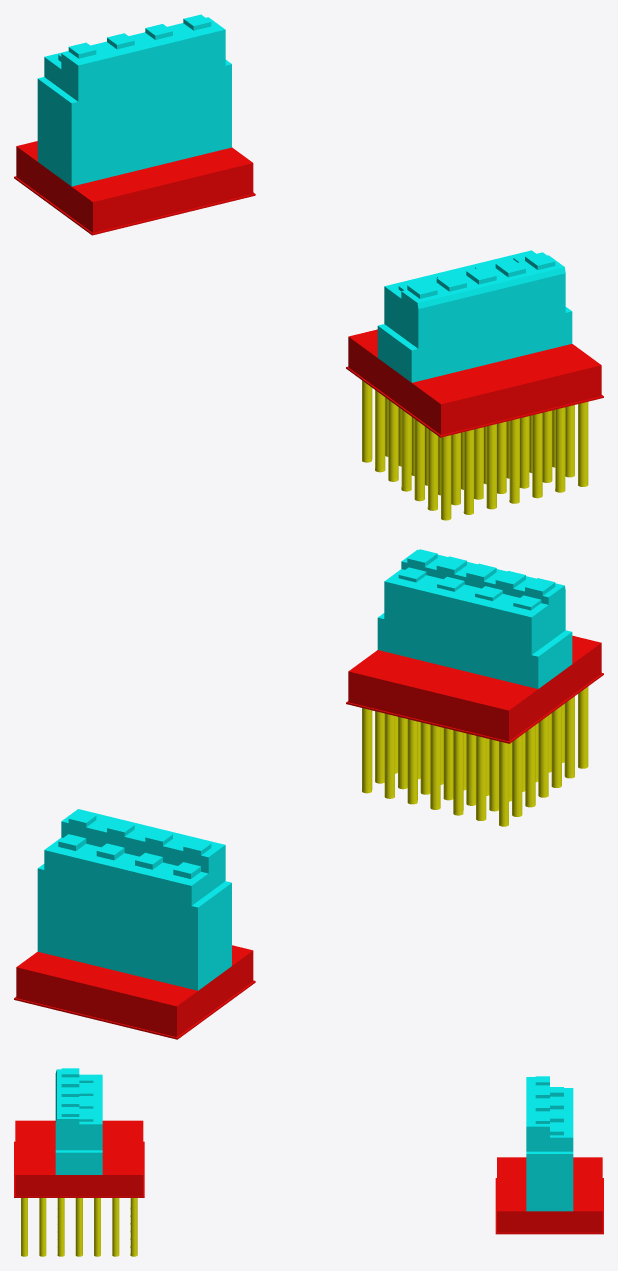
File: pier.glb
The picture shows the model from 3 angles, top to bottom: view 1: azimuth 30°, elevation 25°; view 2: azimuth 150°, elevation 25°; view 3: azimuth 270°, elevation 25°; orthographic projection. The views are drawn at different scales.
Parts seen in each view (by area): view 1: m2, m1, m0; view 2: m2, m1, m0; view 3: m1, m2, m0.
Boxes of the visible parts, bbox=[...] form: m2: bbox=[37, 14, 572, 382]; m1: bbox=[14, 141, 603, 437]; m0: bbox=[362, 380, 588, 520]; m2: bbox=[37, 549, 572, 990]; m1: bbox=[14, 635, 603, 1039]; m0: bbox=[362, 686, 588, 826]; m1: bbox=[14, 1120, 603, 1234]; m2: bbox=[55, 1068, 573, 1211]; m0: bbox=[21, 1198, 137, 1256].
Size of the model in its own units: 11.1 by 13.22 by 50.15.
